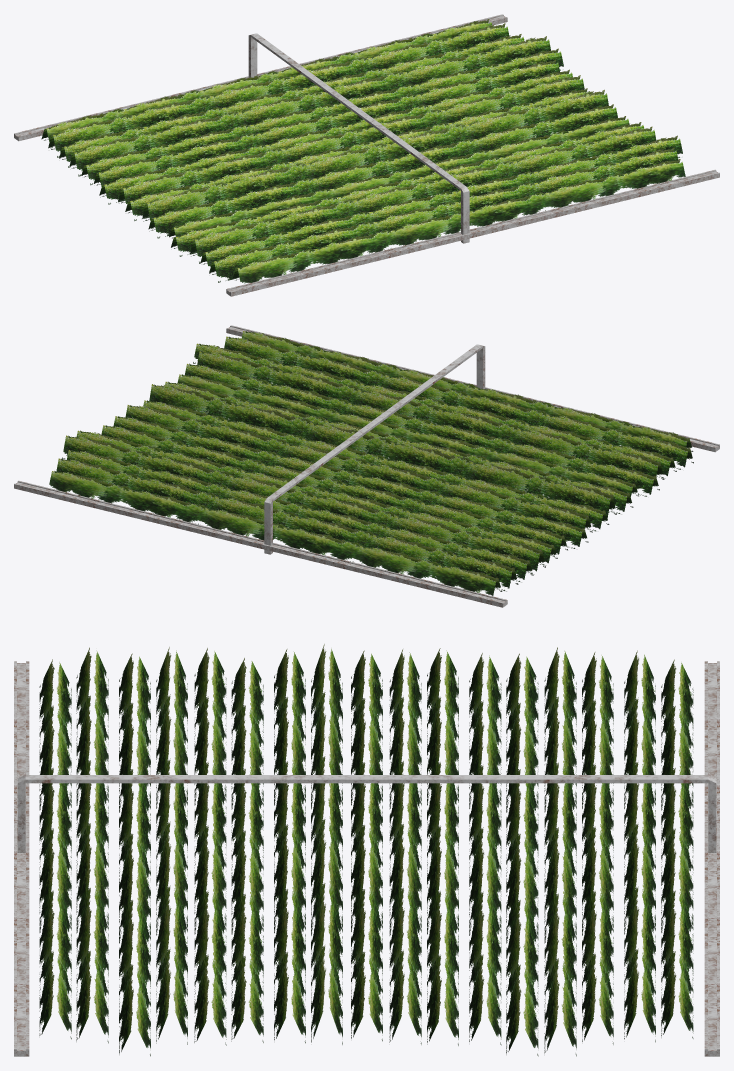
Rendered from Farm1.fbx.
The picture shows the model from 3 angles, top to bottom: view 1: azimuth 30°, elevation 25°; view 2: azimuth 150°, elevation 25°; view 3: azimuth 270°, elevation 25°; orthographic projection. The views are drawn at different scales.
Parts seen in each view (by area): view 1: Farm1, Rail, Waterer; view 2: Farm1, Rail, Waterer; view 3: Farm1, Rail, Waterer.
Boxes of the visible parts, x1,y1,x2,y2 form: Farm1: (41,19,685,283); Rail: (14,14,719,296); Waterer: (248,33,469,243); Farm1: (49,331,693,596); Rail: (14,325,719,607); Waterer: (264,344,485,554); Farm1: (39,644,693,1056); Rail: (14,661,719,1056); Waterer: (17,775,716,852).
Size of the model in its own units: 176804 by 229911 by 24000.
2 materials, 2 textured.
